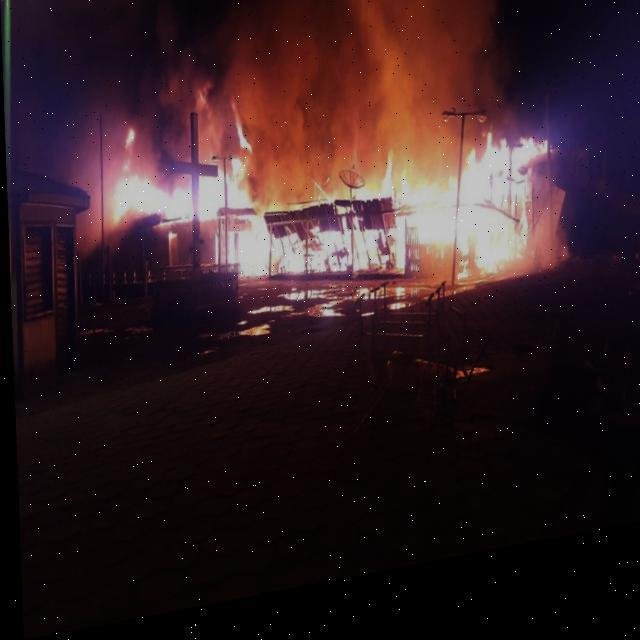Fire: (258, 129, 544, 314), (115, 125, 263, 304)
